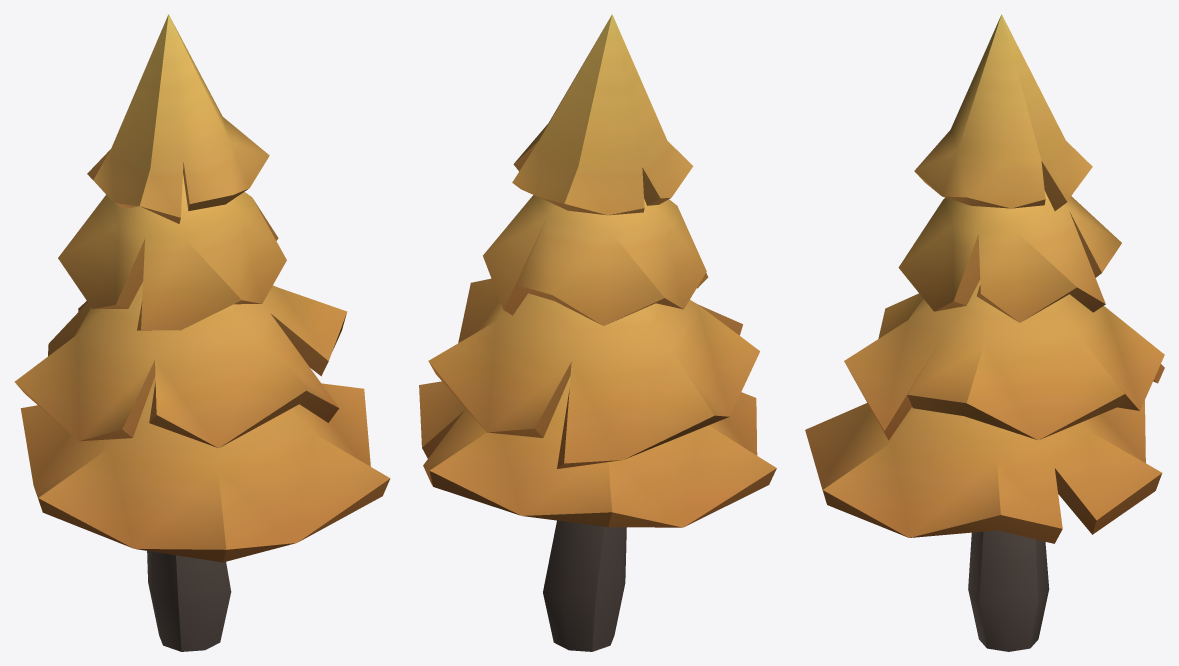
Rendered from kay-pinheiro-amarelo.gltf.
3 views of the same model, side by side, from view 1: azimuth 30°, elevation 25°; view 2: azimuth 150°, elevation 25°; view 3: azimuth 270°, elevation 25° (orthographic). The views are drawn at different scales.
Visible parts, largest first — view 1: tree_pine_yellow_medium; view 2: tree_pine_yellow_medium; view 3: tree_pine_yellow_medium.
Boxes of the visible parts, x1,y1,x2,y2 form: tree_pine_yellow_medium: (14,14,390,651); tree_pine_yellow_medium: (419,14,776,651); tree_pine_yellow_medium: (805,14,1164,651).
Size of the model in its own units: 1.66 by 2.94 by 1.56.
1 material, 1 textured.
